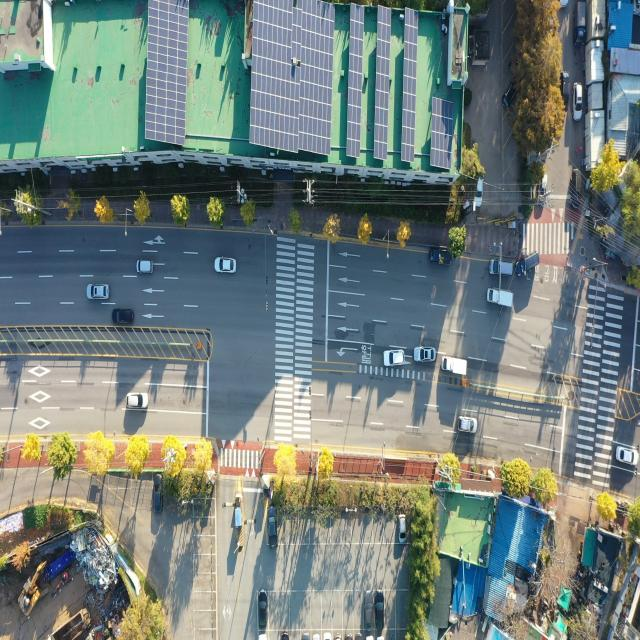car: (516, 249, 541, 278), (500, 77, 520, 111), (266, 502, 280, 547), (489, 254, 512, 280), (152, 472, 164, 514), (571, 169, 582, 214), (373, 591, 385, 632), (616, 446, 640, 466), (472, 174, 484, 208), (560, 72, 569, 114), (214, 256, 236, 273), (89, 283, 111, 300), (383, 349, 405, 366), (414, 346, 436, 363), (364, 592, 373, 633), (128, 392, 149, 409), (258, 591, 267, 628), (114, 309, 134, 325), (537, 173, 547, 205), (457, 418, 477, 433), (574, 84, 582, 121), (398, 513, 406, 545), (138, 261, 154, 275)
small_truck: (487, 286, 514, 307), (575, 0, 587, 45), (442, 355, 468, 375), (428, 250, 454, 268)
